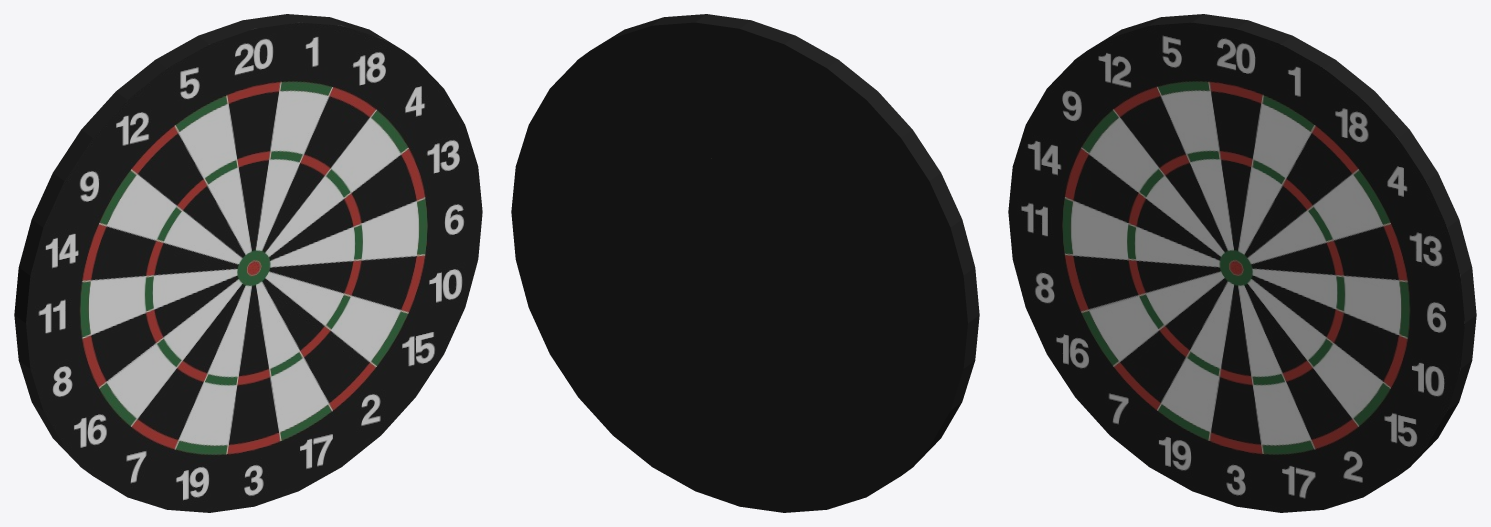
File: DartFinal.fbx
3 views of the same model, side by side, from view 1: azimuth 30°, elevation 25°; view 2: azimuth 150°, elevation 25°; view 3: azimuth 330°, elevation 25° (orthographic).
Parts seen in each view (by area): view 1: Dart.003, Dart.004, Dart.005, Dart.001, Dart.002; view 2: Dart.003, Dart.004, Dart.005, Dart.001, Dart.002; view 3: Dart.004, Dart.003, Dart.005, Dart.002, Dart.001.
Boxes of the visible parts, <box> form: Dart.003: <box>149,14,294,512</box>; Dart.004: <box>274,14,482,263</box>; Dart.005: <box>253,257,478,506</box>; Dart.001: <box>14,16,279,358</box>; Dart.002: <box>17,200,175,510</box>; Dart.003: <box>699,14,844,512</box>; Dart.004: <box>511,14,719,263</box>; Dart.005: <box>515,257,740,506</box>; Dart.001: <box>714,16,979,358</box>; Dart.002: <box>818,200,976,510</box>; Dart.004: <box>1256,34,1476,365</box>; Dart.003: <box>1131,29,1287,506</box>; Dart.005: <box>1235,273,1472,512</box>; Dart.002: <box>1011,148,1157,471</box>; Dart.001: <box>1008,14,1273,248</box>.
Bounding box in the file's own units: 45.3 × 45.3 × 2.
1 material, 1 textured.
